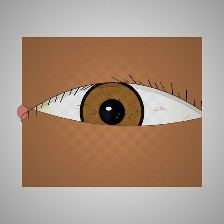pinguecula_lesion: (15, 87, 62, 124)
